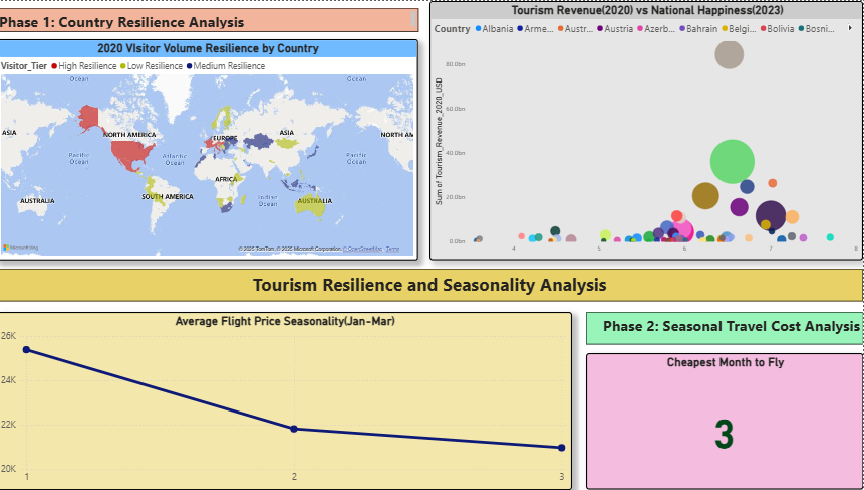

This screenshot's page, from the dashboard's own definition file:
{"tool":"powerbi","page":{"name":"Page 1","canvas":[1600,900],"ordinal":0},"visuals":[{"type":"scatterChart","title":"Tourism Revenue(2020) vs National Happiness(2023)","fields":{"Y":["Sum(travel_master_country_data.Tourism_Revenue_2020_USD)"],"Size":["Sum(travel_master_country_data.Visitors_2020)"],"X":["Avg(travel_master_country_data.Happiness_Score_2023)"],"Series":["travel_master_country_data.Country"]},"box":[800,0,800,476.7],"z":0},{"type":"filledMap","title":"2020 VIsitor Volume Resilience by Country","fields":{"Category":["travel_master_country_data.Country"],"Series":["travel_master_country_data.Visitor_Tier"]},"box":[0,69.8,779.1,407],"z":1},{"type":"lineChart","title":"Average Flight Price Seasonality(Jan-Mar)","fields":{"Category":["flights_seasonal_cleaned.Travel_Month"],"Y":["Avg(flights_seasonal_cleaned.Avg_Flight_Price)"]},"box":[0,572.1,1062.8,327.9],"z":2},{"type":"card","title":"Cheapest Month to Fly","fields":{"Values":["CountNonNull(flights_seasonal_cleaned.Travel_Month)"]},"box":[1088.4,648.8,511.6,251.2],"z":3},{"type":"textbox","box":[0,493,1600,60.5],"z":4},{"type":"textbox","box":[1088.4,572.1,511.6,60.5],"z":6},{"type":"textbox","box":[0,13,779.6,44.4],"z":7}]}

Visuals, with their boxes in screenshot pixels (x1, y1, x2, y2), scaled from the page's 1600x900 canvas onto the 864x490 screenshot:
"Tourism Revenue(2020) vs National Happiness(2023)" scatterChart: region(432, 0, 863, 260)
"2020 VIsitor Volume Resilience by Country" filledMap: region(0, 38, 421, 260)
"Average Flight Price Seasonality(Jan-Mar)" lineChart: region(0, 311, 574, 489)
"Cheapest Month to Fly" card: region(588, 353, 863, 489)
textbox: region(0, 268, 863, 301)
textbox: region(588, 311, 863, 344)
textbox: region(0, 7, 421, 31)
